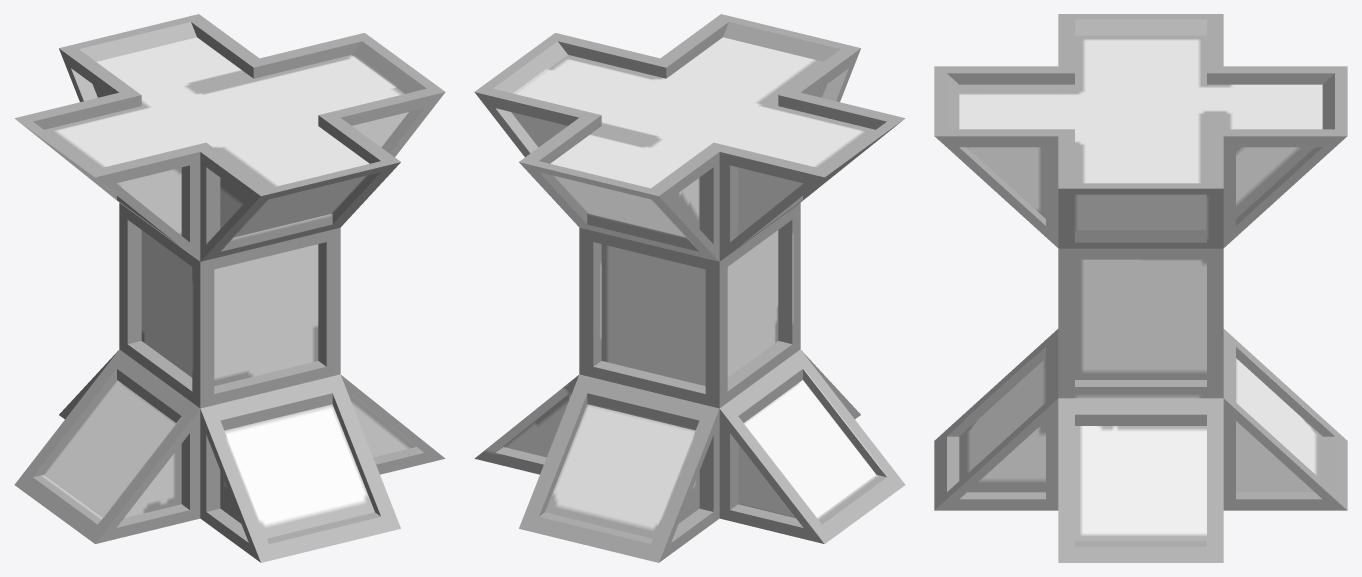
The model's file is Snow.fbx.
The picture shows the model from 3 angles, left to right: view 1: azimuth 30°, elevation 25°; view 2: azimuth 150°, elevation 25°; view 3: azimuth 270°, elevation 25°; orthographic projection. The views are drawn at different scales.
Visible parts, largest first — view 1: Snow; view 2: Snow; view 3: Snow.
Part boxes in pixels (box(x1,y1,x2,y2)): Snow: box(14, 14, 445, 562); Snow: box(474, 14, 905, 562); Snow: box(934, 14, 1347, 562).
Bounding box in the file's own units: 1 × 1 × 1.
1 material, 1 textured.
